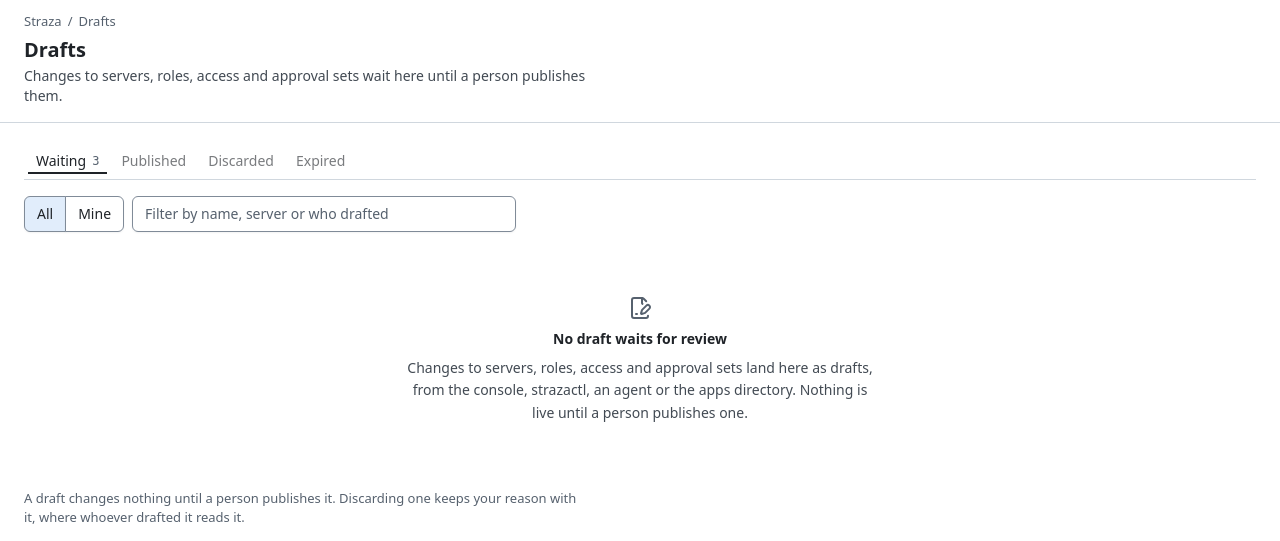
the Drafts queue › says what would be here when nothing waits, and what Mine would show
Check: the text "No draft waits for review" is shown, box left=553, top=328, right=727, bottom=348
Step 1. Click the button "Mine" → (95, 214), box left=65, top=196, right=124, bottom=232
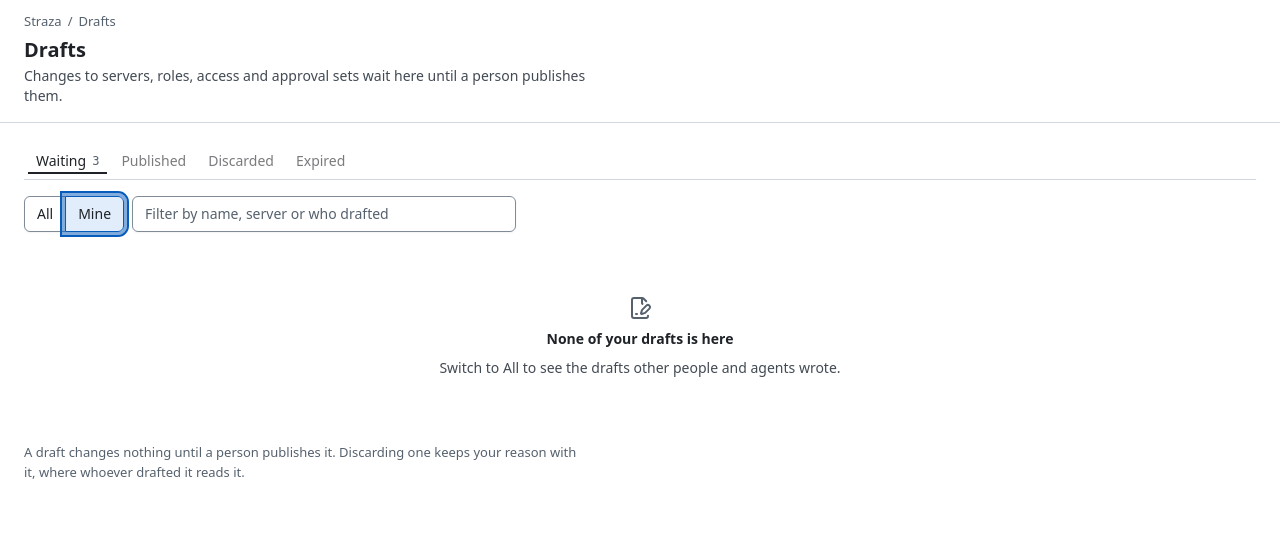
Check: the text "None of your drafts is here" is shown, box left=546, top=328, right=733, bottom=348
